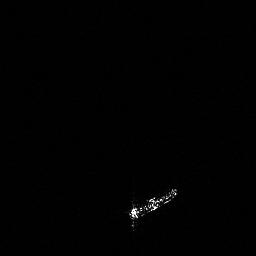ship: (130, 187, 177, 218)
